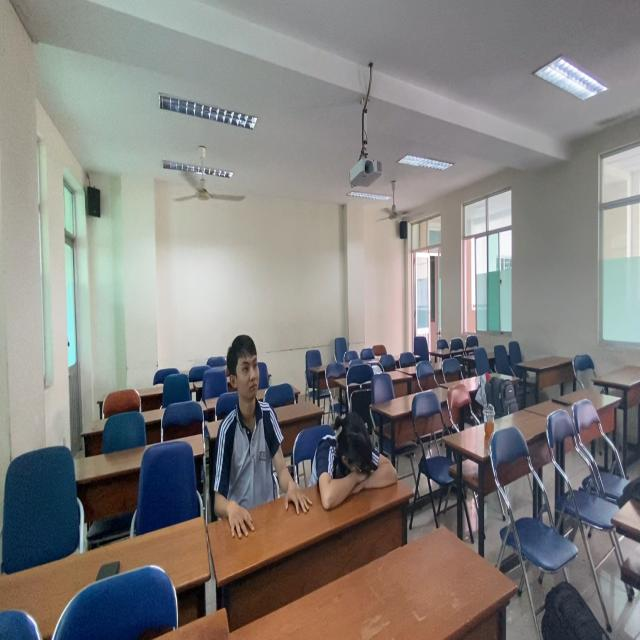sleep: (293, 390, 421, 538)
